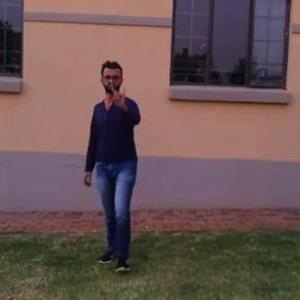takeoff-hand: (106, 80, 136, 113)
